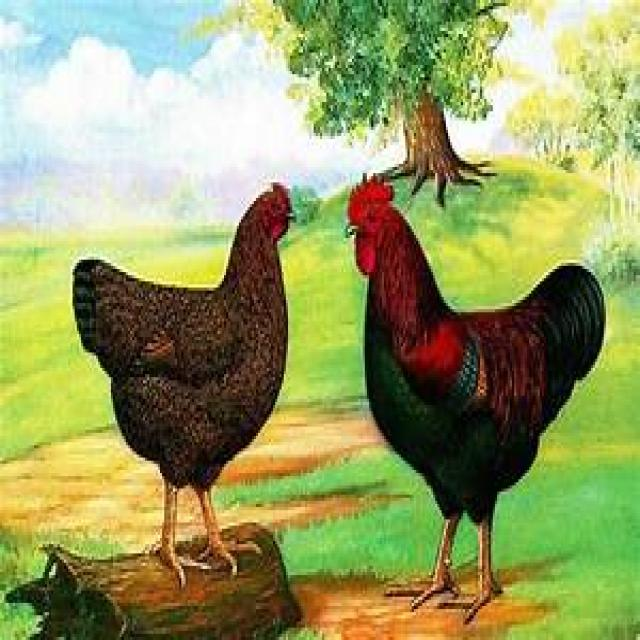chicken: (343, 170, 606, 625), (70, 180, 296, 590)
